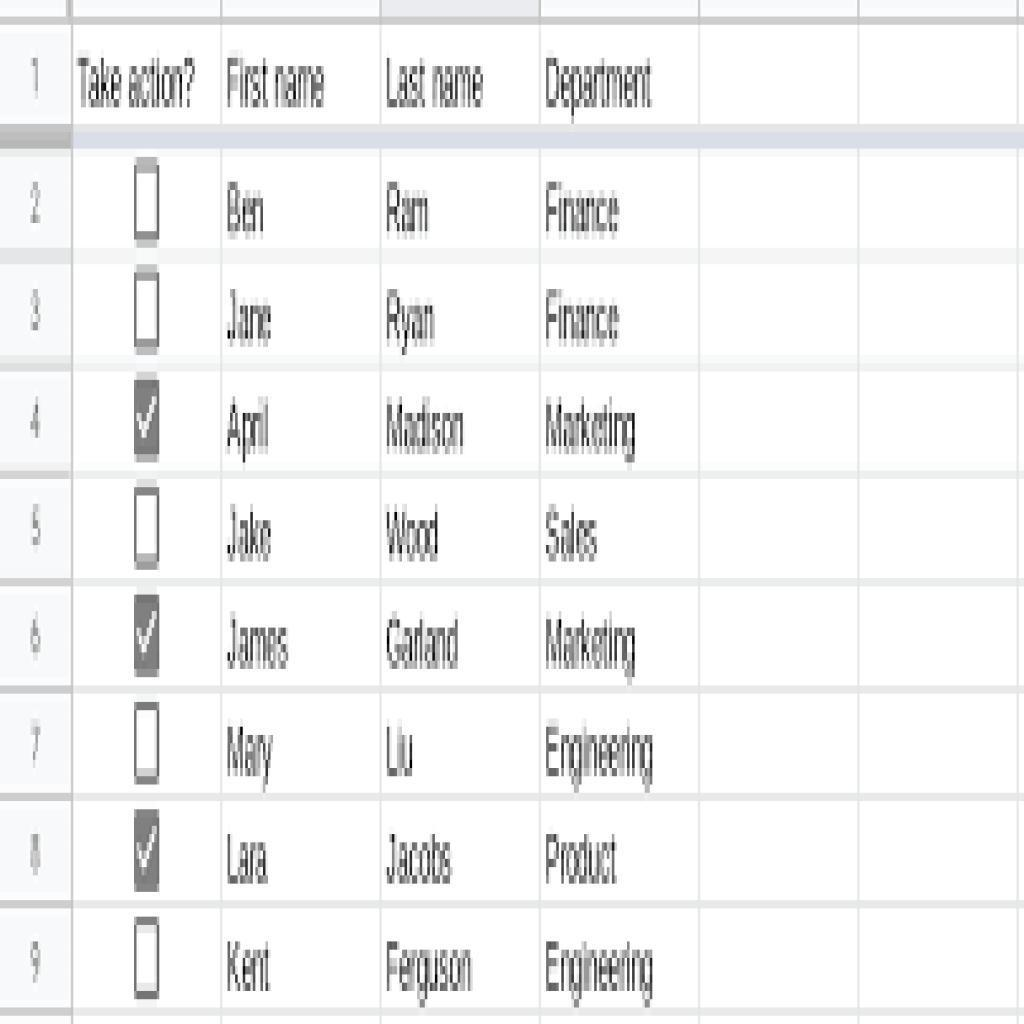checkbox: (134, 162, 162, 241), (134, 810, 161, 891), (136, 379, 162, 462), (136, 267, 161, 352), (134, 597, 160, 677), (134, 704, 160, 781), (135, 489, 161, 563), (138, 918, 160, 999)
table: (4, 21, 1017, 1014)
